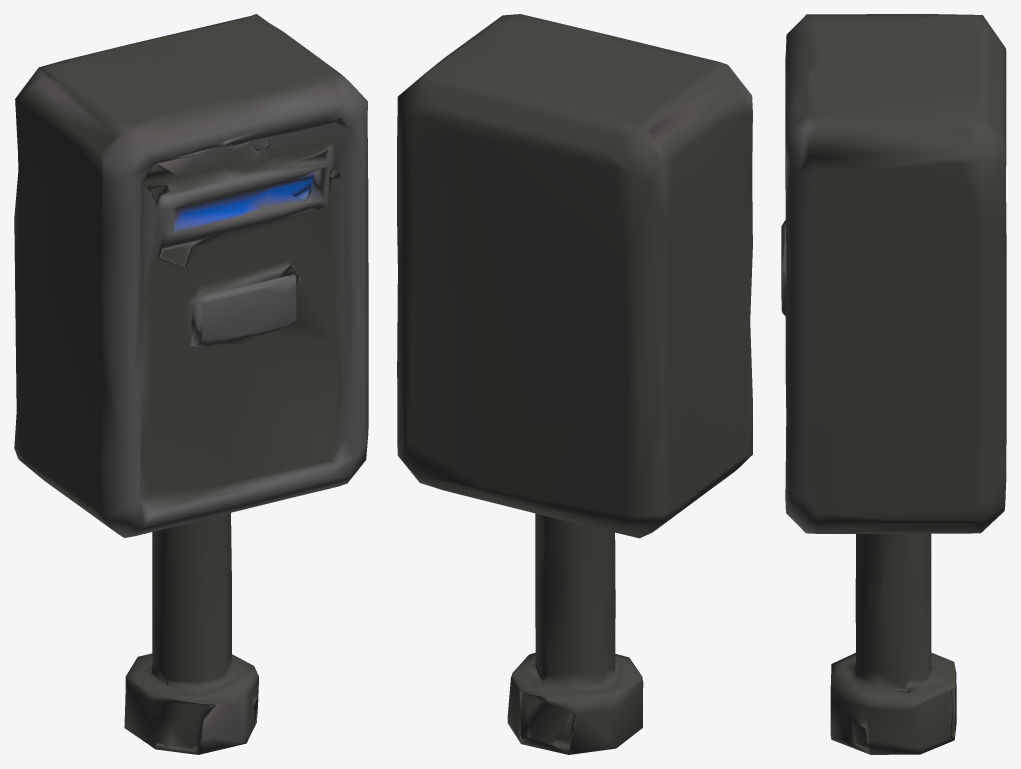
Rendered from gen3d-street-mailbox-lod0.glb.
The picture shows the model from 3 angles, left to right: view 1: azimuth 30°, elevation 25°; view 2: azimuth 150°, elevation 25°; view 3: azimuth 270°, elevation 25°; orthographic projection.
Visible parts, largest first — view 1: part_0; view 2: part_0; view 3: part_0.
Boxes of the visible parts, <box> form: part_0: <box>14,14,368,754</box>; part_0: <box>397,14,752,754</box>; part_0: <box>781,14,1006,754</box>.
Bounding box in the file's own units: 0.4251 × 1 × 0.3084.
